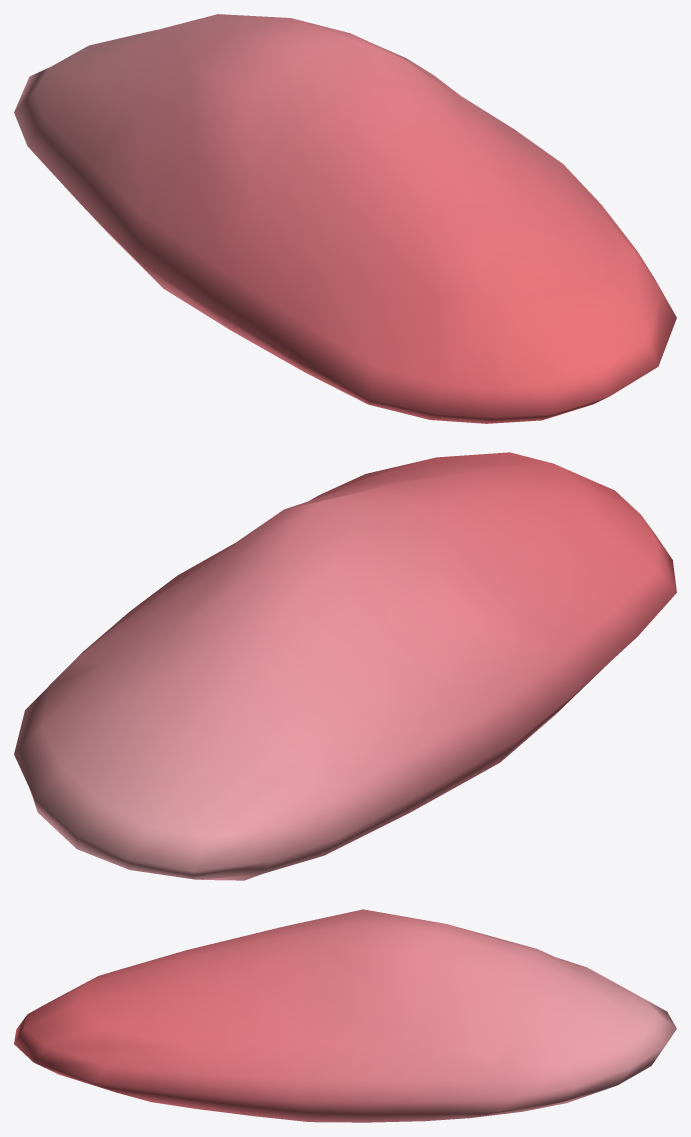
The model's file is fillet_002.fbx.
The picture shows the model from 3 angles, top to bottom: view 1: azimuth 30°, elevation 25°; view 2: azimuth 150°, elevation 25°; view 3: azimuth 270°, elevation 25°; orthographic projection. The views are drawn at different scales.
Parts seen in each view (by area): view 1: fillet_002; view 2: fillet_002; view 3: fillet_002.
Boxes of the visible parts, <box> form: fillet_002: <box>14,14,676,423</box>; fillet_002: <box>14,452,676,880</box>; fillet_002: <box>14,909,676,1122</box>.
Bounding box in the file's own units: 6.57 × 13.95 × 4.05.
